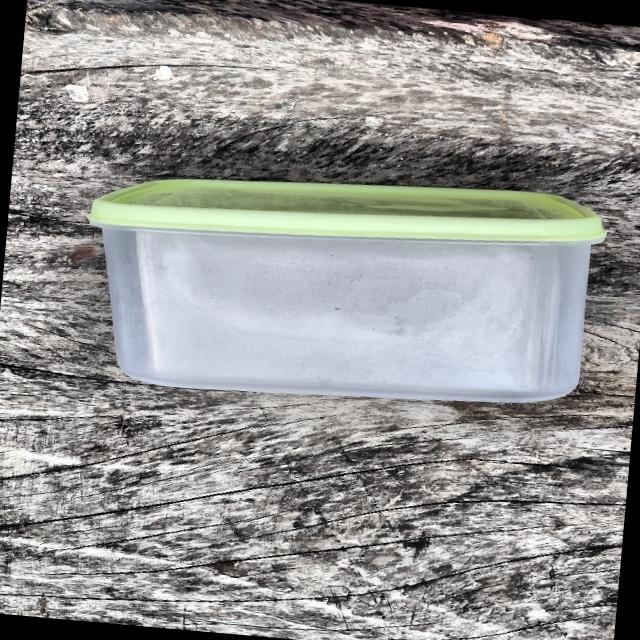plastic container: (52, 140, 632, 444)
